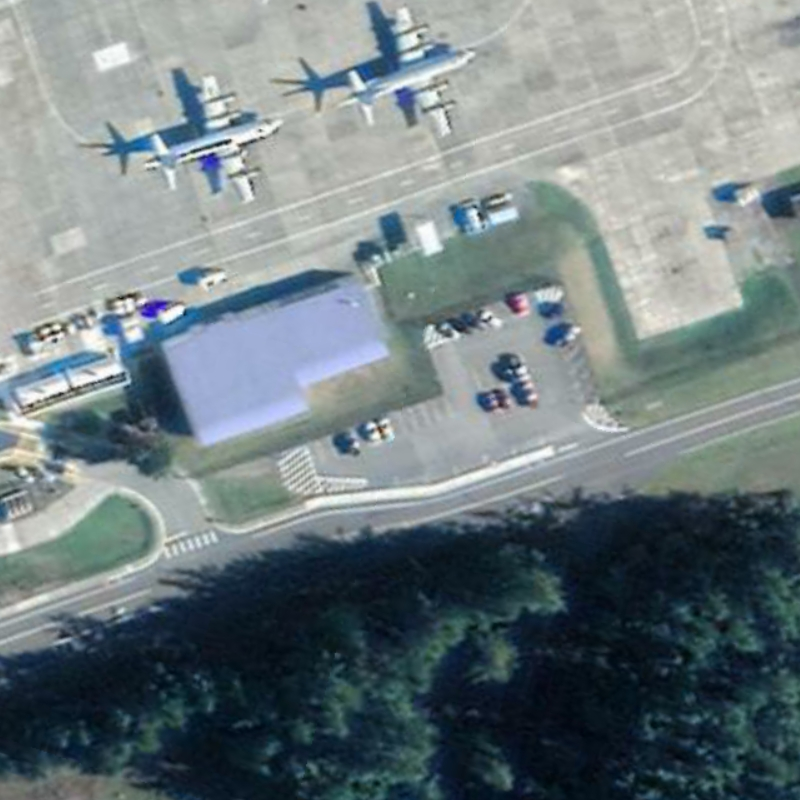A9: (132, 64, 289, 213), (324, 3, 481, 148)
